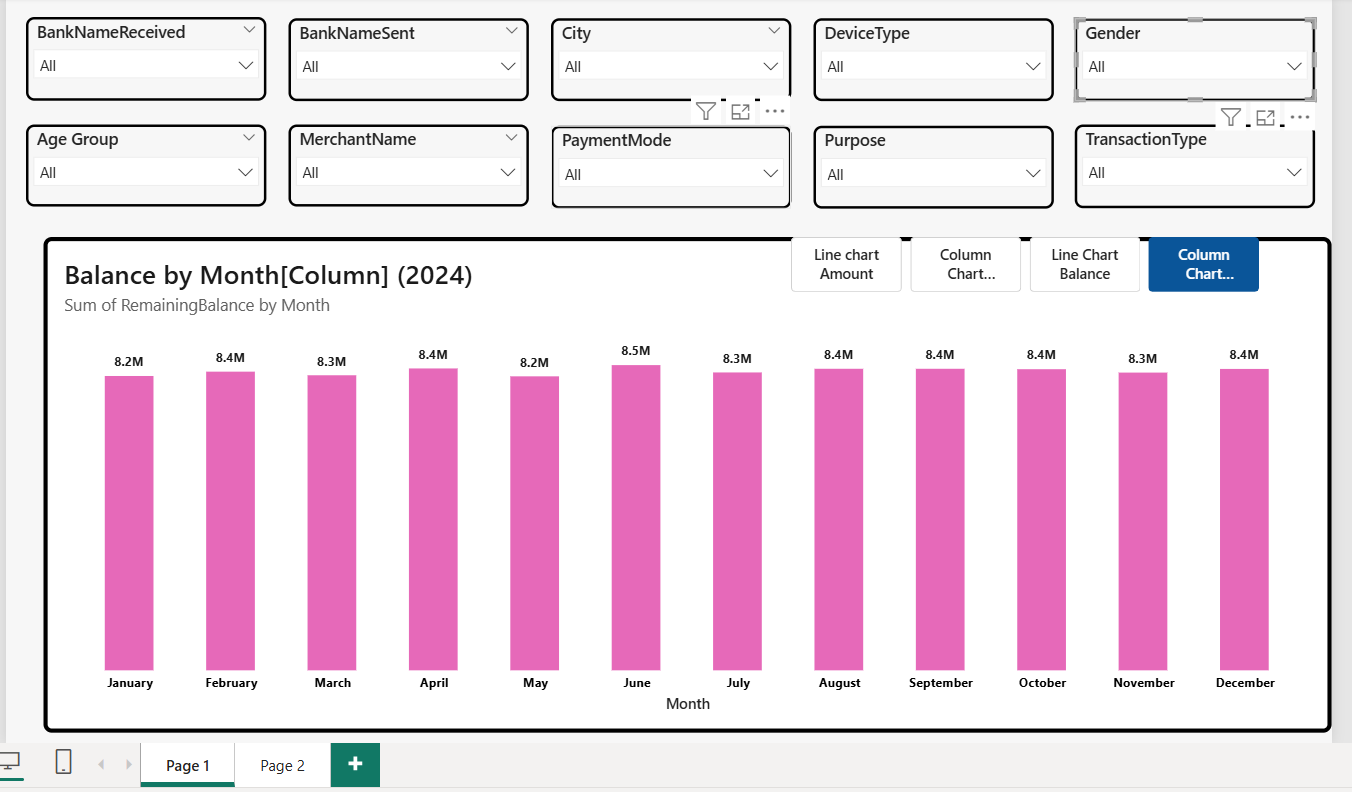

The dashboard page shown, as its layout file describes it:
{"tool":"powerbi","page":{"name":"Page 1","canvas":[1280,720],"ordinal":0},"visuals":[{"type":"slicer","fields":{"Values":["Sheet1.BankNameReceived"]},"box":[19.6,19.6,232.3,80.7],"z":0},{"type":"slicer","fields":{"Values":["Sheet1.BankNameSent"]},"box":[273,20.5,232,80],"z":1000},{"type":"slicer","fields":{"Values":["Sheet1.City"]},"box":[526,20.5,232,80],"z":2000},{"type":"slicer","fields":{"Values":["Sheet1.DeviceType"]},"box":[779,20.5,232,80],"z":3000},{"type":"slicer","fields":{"Values":["Sheet1.Gender"]},"box":[1031.9,20.6,232,80],"z":4000},{"type":"slicer","fields":{"Values":["Sheet1.Age Group"]},"box":[19.2,123.5,231.9,79.6],"z":5000},{"type":"slicer","fields":{"Values":["Sheet1.MerchantName"]},"box":[273.1,123.5,231.9,79.6],"z":6000},{"type":"slicer","fields":{"Values":["Sheet1.PaymentMode"]},"box":[526.1,123.8,232,80],"z":7000},{"type":"slicer","fields":{"Values":["Sheet1.Purpose"]},"box":[779.1,123.9,232,80],"z":8000},{"type":"slicer","fields":{"Values":["Sheet1.TransactionType"]},"box":[1031.9,123.5,231.9,81],"z":9000},{"type":"columnChart","title":"Balance by Month[Column] (2024)","fields":{"Category":["Sheet1.TransactionDate.Variation.Date Hierarchy.Month"],"Y":["Sum(Sheet1.RemainingBalance)"]},"box":[36.2,231.4,1243.6,478.6],"z":13000},{"type":"bookmarkNavigator","box":[757.7,231.4,455.5,53.5],"z":15500}]}

Visuals, with their boxes in screenshot pixels (x1, y1, x2, y2):
slicer - Sheet1.BankNameReceived: box(20, 13, 262, 97)
slicer - Sheet1.BankNameSent: box(284, 14, 526, 98)
slicer - Sheet1.City: box(548, 14, 790, 98)
slicer - Sheet1.DeviceType: box(811, 14, 1053, 98)
slicer - Sheet1.Gender: box(1075, 14, 1317, 98)
slicer - Sheet1.Age Group: box(20, 122, 262, 205)
slicer - Sheet1.MerchantName: box(284, 122, 526, 205)
slicer - Sheet1.PaymentMode: box(548, 122, 790, 205)
slicer - Sheet1.Purpose: box(812, 122, 1053, 205)
slicer - Sheet1.TransactionType: box(1075, 122, 1316, 206)
"Balance by Month[Column] (2024)" columnChart: box(38, 234, 1333, 733)
bookmarkNavigator: box(789, 234, 1264, 290)
